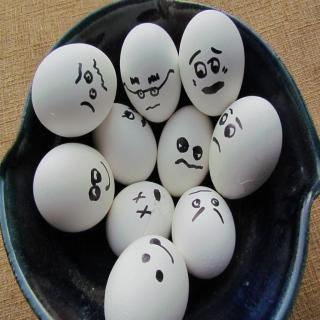Egg: (31, 9, 282, 320)
